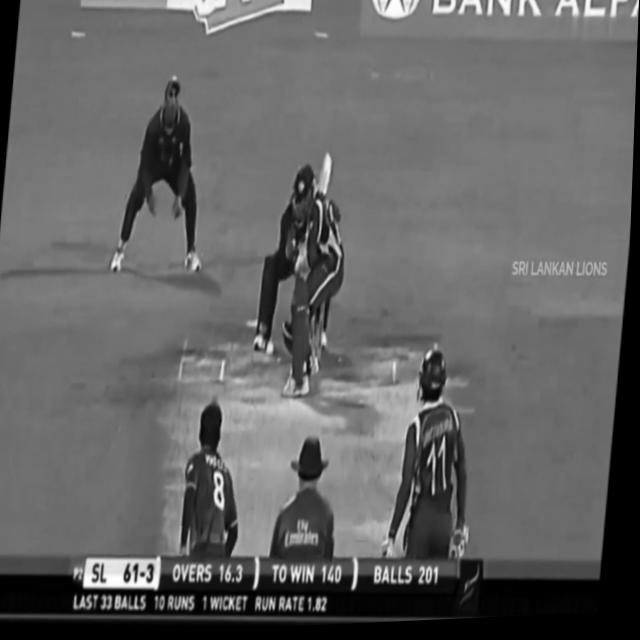Batsman: (271, 156, 357, 420)
